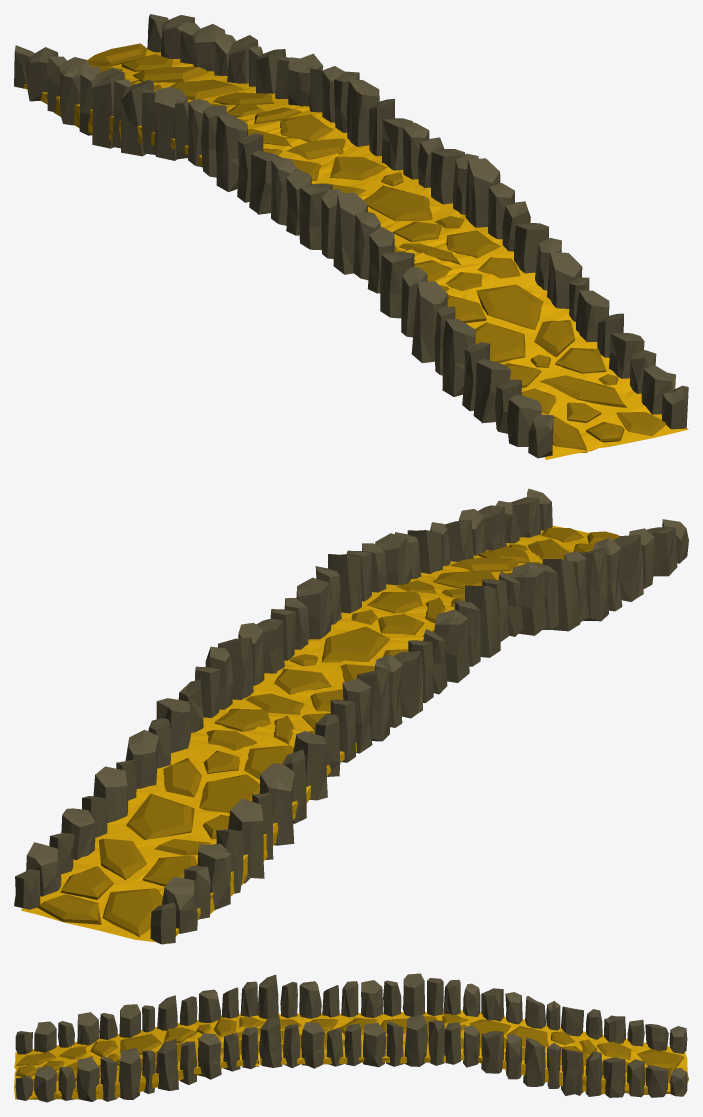
Rendered from stm_env_BridgeFullLong.fbx.
3 views of the same model, one above another, from view 1: azimuth 30°, elevation 25°; view 2: azimuth 150°, elevation 25°; view 3: azimuth 270°, elevation 25° (orthographic). The views are drawn at different scales.
Visible parts, largest first — view 1: Bridge_Side_2, Bridge_Middle, Bridge_Side_1; view 2: Bridge_Side_1, Bridge_Middle, Bridge_Side_2; view 3: Bridge_Side_2, Bridge_Side_1, Bridge_Middle.
Part boxes in pixels (box(x1,y1,x2,y2)): Bridge_Side_2: box(353, 183, 688, 459); Bridge_Middle: box(201, 71, 500, 274); Bridge_Side_1: box(14, 14, 344, 167); Bridge_Side_1: box(14, 666, 356, 944); Bridge_Middle: box(205, 554, 500, 753); Bridge_Side_2: box(346, 488, 688, 641); Bridge_Side_2: box(14, 981, 264, 1102); Bridge_Side_1: box(442, 979, 688, 1097); Bridge_Middle: box(257, 973, 446, 1068).
Size of the model in its own units: 550 by 380 by 2872.
